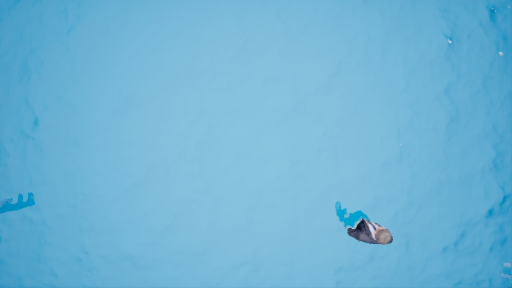person: (328, 198, 400, 247)
